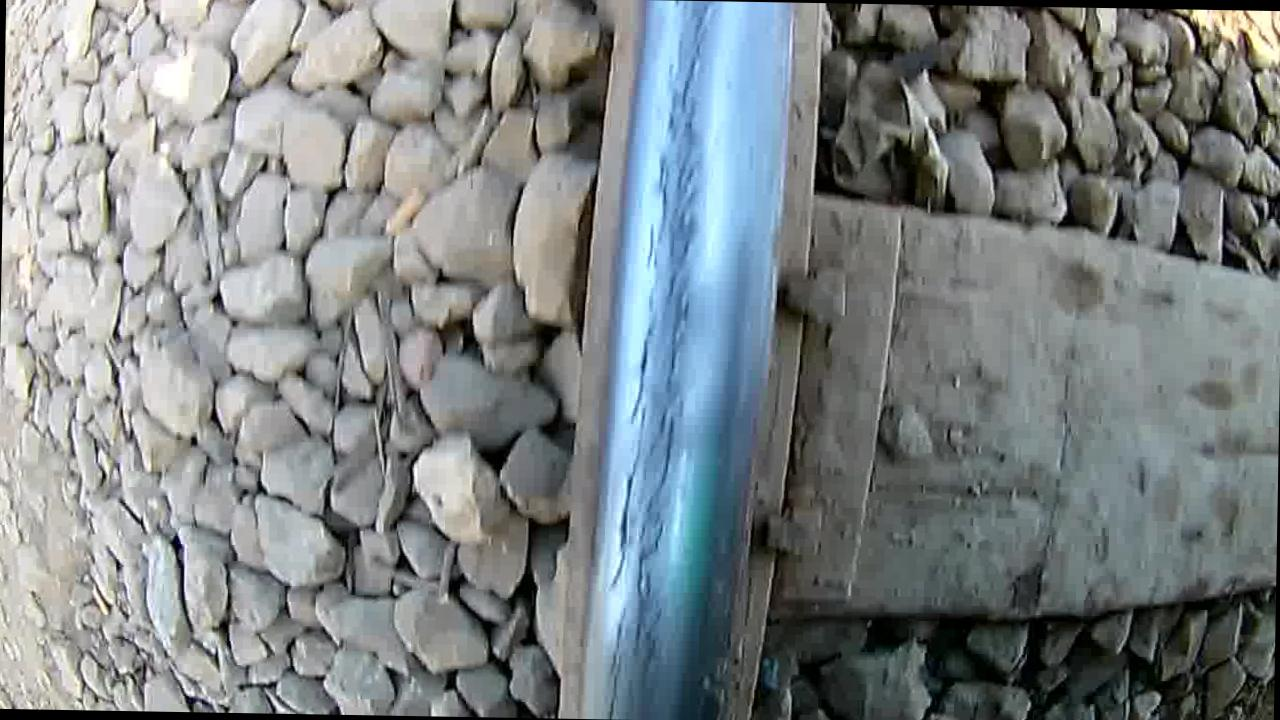normal_track: (593, 2, 730, 720)
